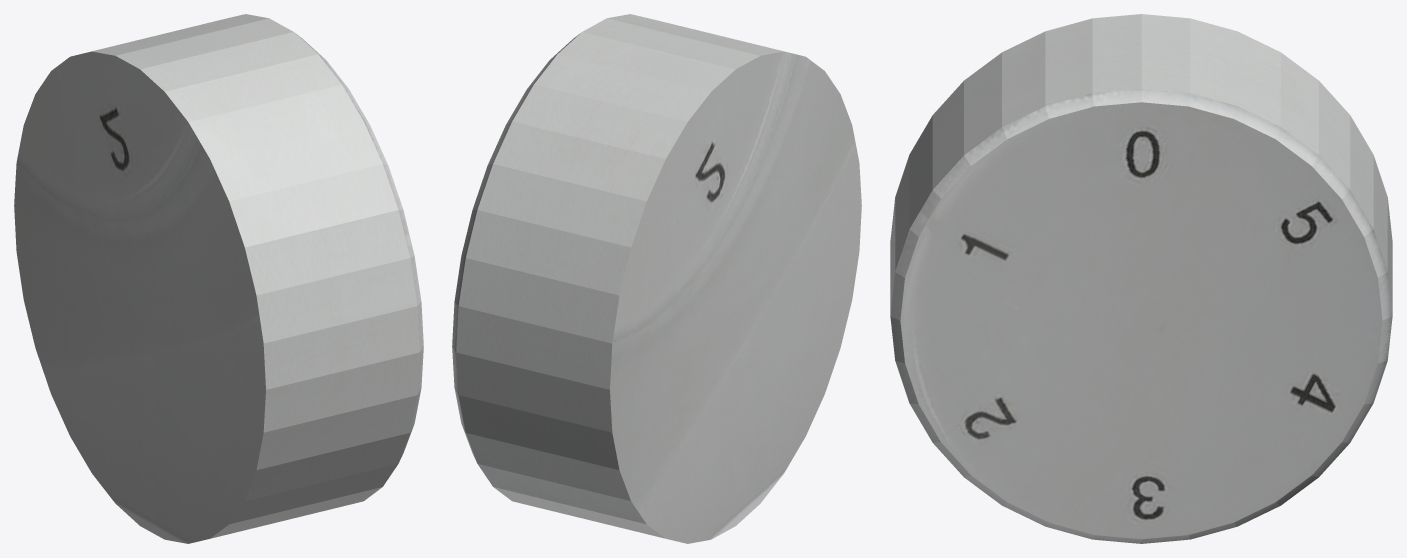
Rendered from FanSwitch.fbx.
3 renders of one model, left to right at view 1: azimuth 30°, elevation 25°; view 2: azimuth 150°, elevation 25°; view 3: azimuth 270°, elevation 25°, orthographic.
Visible parts, largest first — view 1: FanSwitch; view 2: FanSwitch; view 3: FanSwitch.
Part boxes in pixels (x1,y1,x2,y2): FanSwitch: (14, 14, 423, 543); FanSwitch: (452, 14, 861, 543); FanSwitch: (890, 14, 1392, 543).
Bounding box in the file's own units: 1.7 × 4.56 × 4.56.
Materials: 1 (1 with a texture image).
